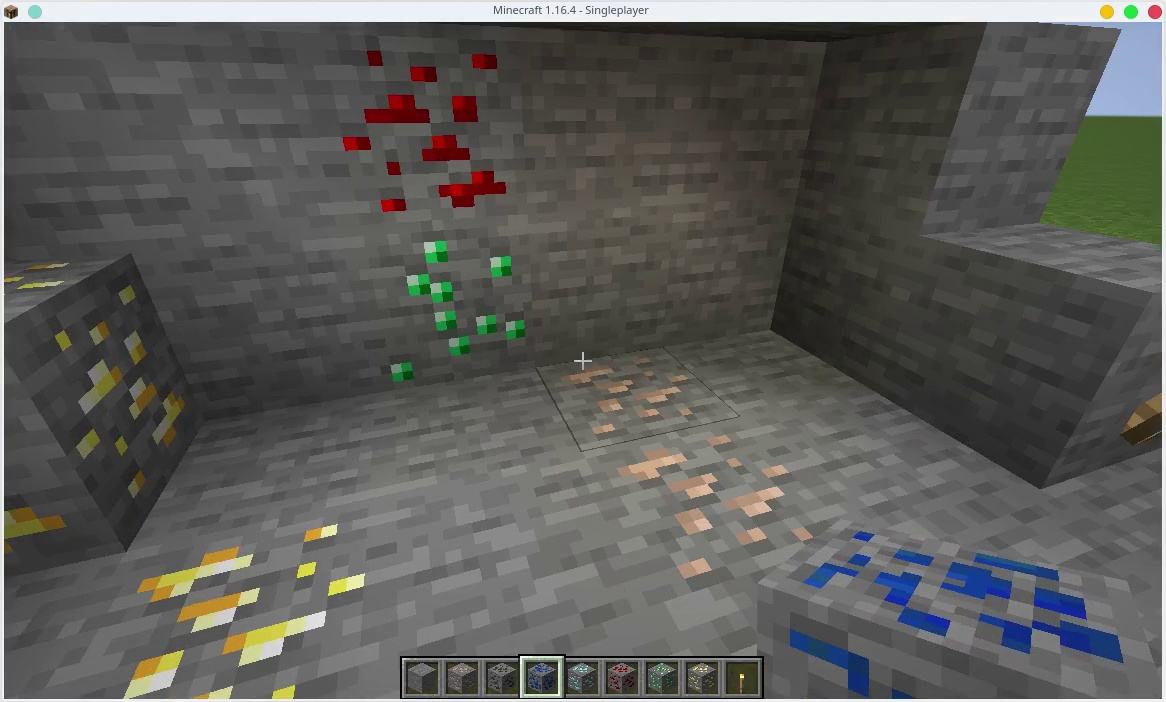gold: (1, 252, 193, 507), (132, 519, 379, 702), (686, 661, 719, 691)
